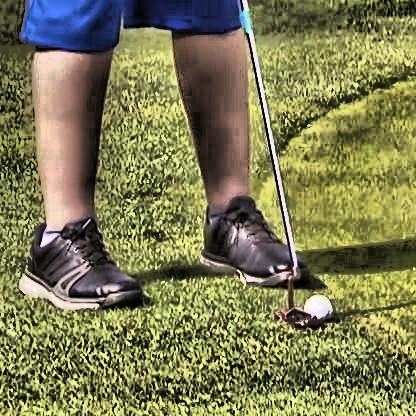golfball: (300, 292, 328, 320)
